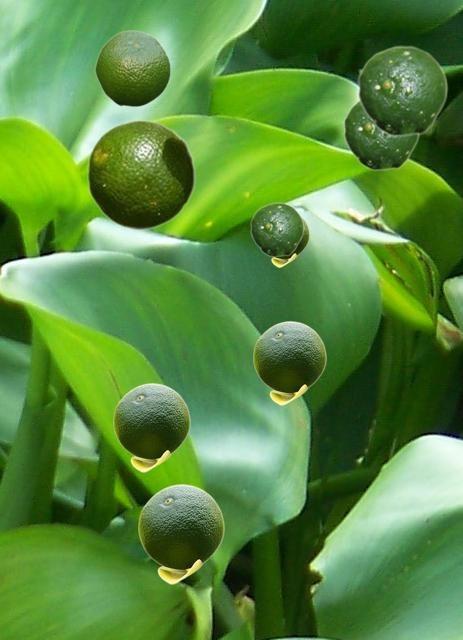calamansi: (86, 119, 195, 229), (138, 484, 223, 583), (357, 45, 447, 136), (113, 383, 189, 471), (253, 321, 325, 404), (94, 29, 170, 106), (343, 100, 419, 170), (250, 202, 303, 256), (271, 216, 308, 266)
